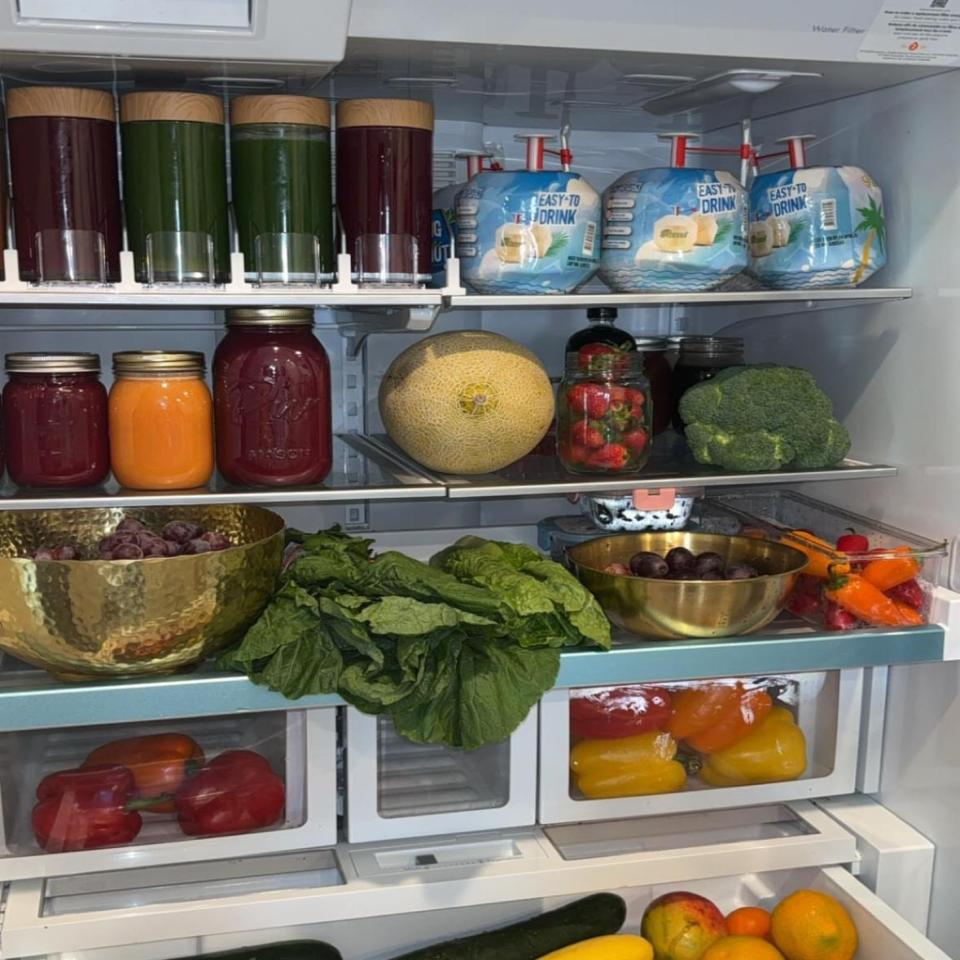Limón: (772, 890, 858, 960)
Manzana: (642, 890, 727, 960)
bell pepper: (174, 750, 287, 836), (31, 767, 144, 852), (92, 733, 204, 813), (701, 705, 808, 786), (570, 732, 684, 800), (672, 680, 774, 755), (573, 689, 668, 736)
strawberries: (563, 343, 648, 471)
